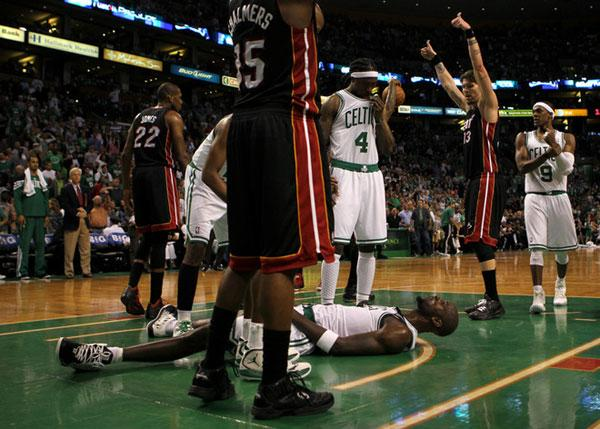bending: (170, 109, 252, 344)
down: (51, 292, 461, 377)
up: (191, 1, 339, 421), (423, 15, 514, 323), (318, 49, 406, 307), (116, 81, 194, 323), (508, 93, 585, 316), (10, 153, 57, 288), (55, 162, 101, 281)
